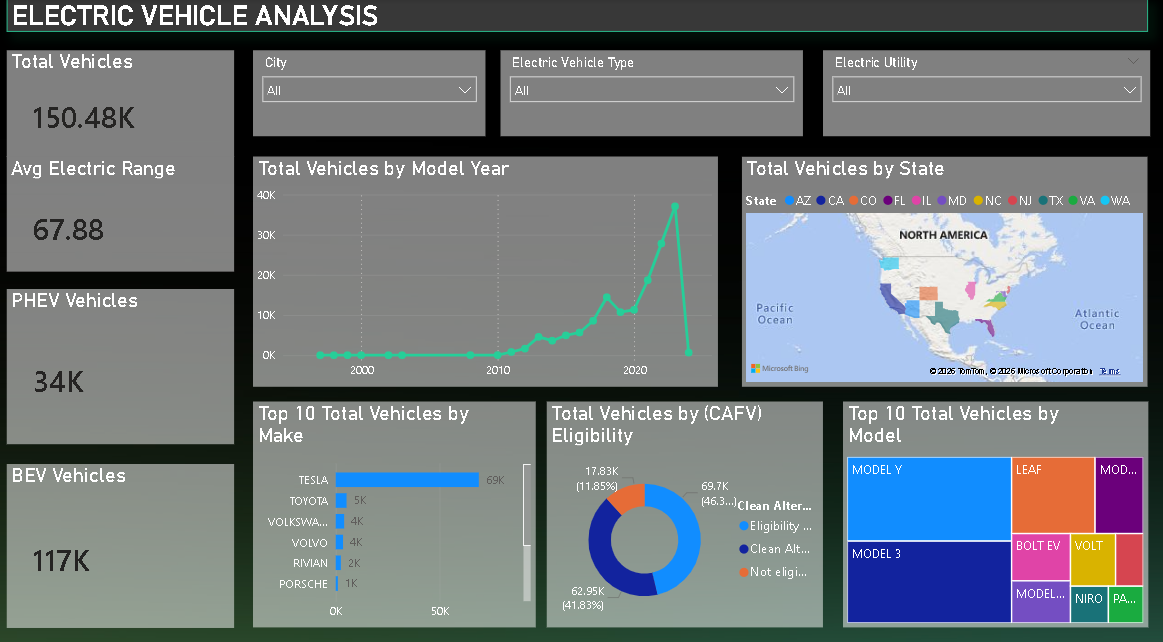

This screenshot's page, from the dashboard's own definition file:
{"tool":"powerbi","page":{"name":"Page 1","canvas":[1280,720],"ordinal":0},"visuals":[{"type":"textbox","title":"ELECTRIC VEHICLE ANALYSIS","box":[9.6,0,1252.8,35.7],"z":0},{"type":"filledMap","title":"Total Vehicles by State","fields":{"Category":["Electric_Vehicle_Population_Dat.State"],"Series":["Electric_Vehicle_Population_Dat.State"],"X":["Count(Electric_Vehicle_Population_Dat.DOL Vehicle ID)"]},"box":[816.5,172.9,446,252.5],"z":1000},{"type":"treemap","title":"Top 10 Total Vehicles by Model","fields":{"Group":["Electric_Vehicle_Population_Dat.Model"],"Values":["CountNonNull(Electric_Vehicle_Population_Dat.DOL Vehicle ID)"]},"box":[927.6,441.9,334.8,248.4],"z":2000},{"type":"lineChart","title":"Total Vehicles by Model Year","fields":{"Category":["Electric_Vehicle_Population_Dat.Model Year"],"Y":["CountNonNull(Electric_Vehicle_Population_Dat.DOL Vehicle ID)"]},"box":[279.9,172.9,510.5,252.5],"z":3000},{"type":"donutChart","title":"Total Vehicles by (CAFV) Eligibility","fields":{"Y":["CountNonNull(Electric_Vehicle_Population_Dat.DOL Vehicle ID)"],"Category":["Electric_Vehicle_Population_Dat.Clean Alternative Fuel Vehicle (CAFV) Eligibility"]},"box":[602.4,441.9,303.3,248.4],"z":4000},{"type":"clusteredBarChart","title":"Top 10 Total Vehicles by Make","fields":{"Category":["Electric_Vehicle_Population_Dat.Make"],"Y":["Count(Electric_Vehicle_Population_Dat.DOL Vehicle ID)"]},"box":[279.9,441.9,310.1,248.4],"z":5000},{"type":"cardVisual","title":"Total Vehicles","fields":{"Data":["Electric_Vehicle_Population_Dat.Total Vehicles"]},"box":[9.6,56.3,249.7,116.6],"z":6000},{"type":"cardVisual","title":"BEV Vehicles","fields":{"Data":["Electric_Vehicle_Population_Dat.BEV Vehicles"]},"box":[9.6,510.5,249.7,179.8],"z":7000},{"type":"cardVisual","title":"PHEV Vehicles","fields":{"Data":["Electric_Vehicle_Population_Dat.PHEV Vehicles"]},"box":[9.6,318.4,249.7,170.2],"z":8000},{"type":"slicer","fields":{"Values":["Electric_Vehicle_Population_Dat.City"]},"box":[279.9,56.3,255.2,94.7],"z":9000},{"type":"slicer","fields":{"Values":["Electric_Vehicle_Population_Dat.Electric Vehicle Type"]},"box":[551.6,56.3,332.1,94.7],"z":10000},{"type":"slicer","fields":{"Values":["Electric_Vehicle_Population_Dat.Electric Utility"]},"box":[905.7,56.3,359.5,94.7],"z":11000},{"type":"cardVisual","title":"Avg Electric Range","fields":{"Data":["Avg(Electric_Vehicle_Population_Dat.Electric Range)"]},"box":[9.6,172.9,249.7,126.2],"z":12000}]}

Visuals, with their boxes in screenshot pixels (x1, y1, x2, y2), scaled from the page's 1280x720 canvas onto the 1163x642 screenshot:
"ELECTRIC VEHICLE ANALYSIS" textbox: 9:0:1147:32
"Total Vehicles by State" filledMap: 742:154:1147:379
"Top 10 Total Vehicles by Model" treemap: 843:394:1147:616
"Total Vehicles by Model Year" lineChart: 254:154:718:379
"Total Vehicles by (CAFV) Eligibility" donutChart: 547:394:823:616
"Top 10 Total Vehicles by Make" clusteredBarChart: 254:394:536:616
"Total Vehicles" cardVisual: 9:50:236:154
"BEV Vehicles" cardVisual: 9:455:236:616
"PHEV Vehicles" cardVisual: 9:284:236:436
slicer - Electric_Vehicle_Population_Dat.City: 254:50:486:135
slicer - Electric_Vehicle_Population_Dat.Electric Vehicle Type: 501:50:803:135
slicer - Electric_Vehicle_Population_Dat.Electric Utility: 823:50:1150:135
"Avg Electric Range" cardVisual: 9:154:236:267
